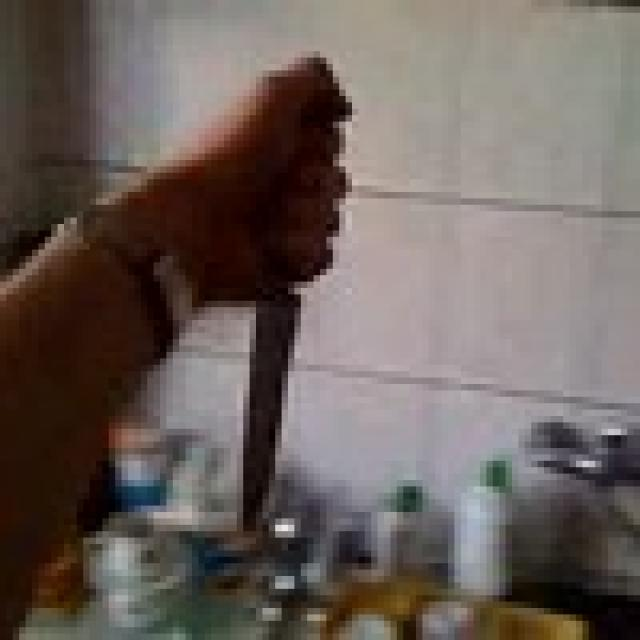Knife: (230, 76, 378, 538)
